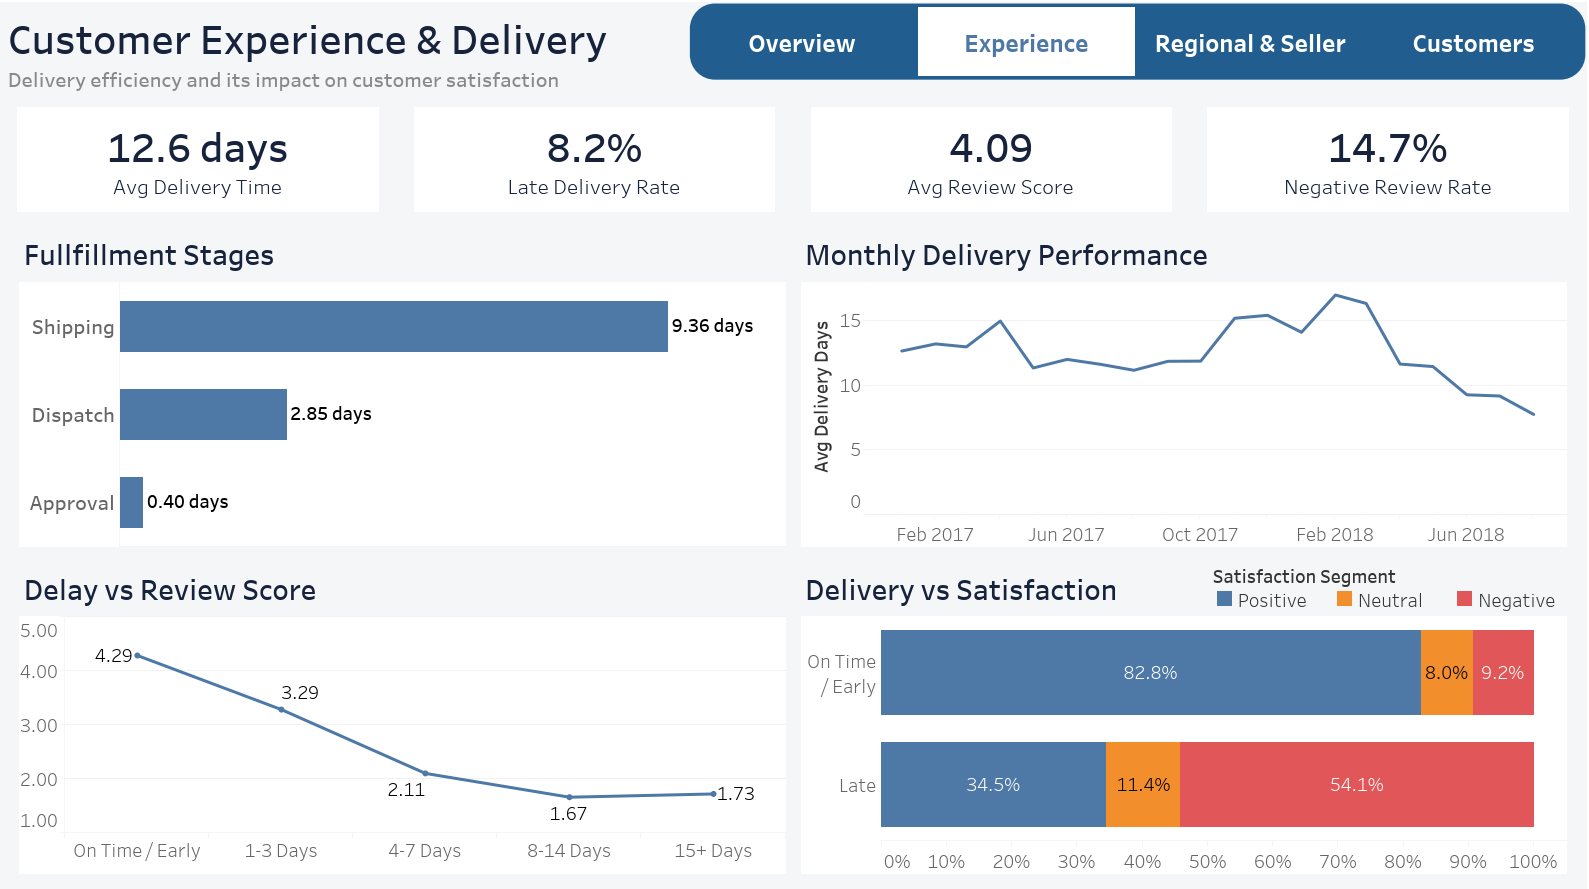

The page's visual inventory and layout, read from the dashboard file:
{"tool":"tableau","page":{"name":"02 - Customer Experience & Delivery","canvas":[1600,900],"ordinal":1},"visuals":[{"type":"text","box":[8,8,1584,98]},{"type":"dashboard-object","box":[697,9,224,76]},{"type":"dashboard-object","box":[921,9,224,76]},{"type":"dashboard-object","box":[1145,9,223,76]},{"type":"dashboard-object","box":[1368,9,223,76]},{"type":"worksheet","title":"KPI - Avg Delivery Time","mark":"Text","box":[8,106,396,119]},{"type":"worksheet","title":"KPI - Late Delivery Rate","mark":"Text","box":[404,106,396,119]},{"type":"worksheet","title":"KPI - Avg Review Score","mark":"Text","box":[800,106,396,119]},{"type":"worksheet","title":"KPI - Negative Review Rate","mark":"Text","box":[1196,106,396,119]},{"type":"worksheet","title":"Fullfillment Stages","mark":"Automatic","box":[8,225,792,334]},{"type":"worksheet","title":"Monthly Delivery Performance","mark":"Automatic","rows":["total_delivery_days"],"cols":["purchase_date"],"box":[800,225,792,334]},{"type":"worksheet","title":"Delay vs Review Score","mark":"Line","rows":["avg_review_score"],"cols":["delay_bucket"],"box":[8,559,792,333]},{"type":"worksheet","title":"Delivery vs Satisfaction","mark":"Bar","rows":["delivery_status"],"box":[800,559,792,333]},{"type":"legend","title":"Delivery vs Satisfaction","param":"[federated.0bh5i2l0u31mft177c0aj1c57ahn].[none:satisfaction_segment:nk]","box":[1218,565,368,51]}]}

Visuals, with their boxes in screenshot pixels (x1, y1, x2, y2), scaled from the page's 1600x900 canvas onto the 1589x889 screenshot:
text: <region>8, 8, 1581, 105</region>
dashboard-object: <region>692, 9, 915, 84</region>
dashboard-object: <region>915, 9, 1137, 84</region>
dashboard-object: <region>1137, 9, 1359, 84</region>
dashboard-object: <region>1359, 9, 1580, 84</region>
"KPI - Avg Delivery Time" worksheet (Text marks): <region>8, 105, 401, 222</region>
"KPI - Late Delivery Rate" worksheet (Text marks): <region>401, 105, 794, 222</region>
"KPI - Avg Review Score" worksheet (Text marks): <region>794, 105, 1188, 222</region>
"KPI - Negative Review Rate" worksheet (Text marks): <region>1188, 105, 1581, 222</region>
"Fullfillment Stages" worksheet: <region>8, 222, 794, 552</region>
"Monthly Delivery Performance" worksheet: <region>794, 222, 1581, 552</region>
"Delay vs Review Score" worksheet (Line marks): <region>8, 552, 794, 881</region>
"Delivery vs Satisfaction" worksheet (Bar marks): <region>794, 552, 1581, 881</region>
"Delivery vs Satisfaction" legend: <region>1210, 558, 1575, 608</region>
